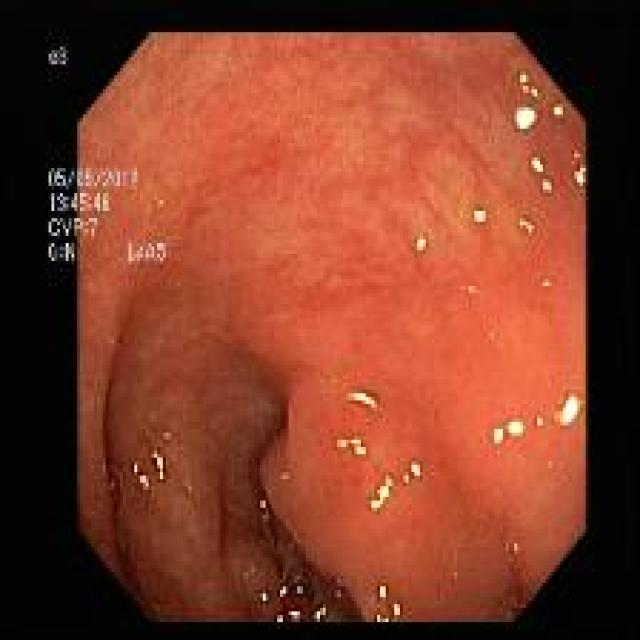ulcerative-colitis: (50, 33, 586, 625)
